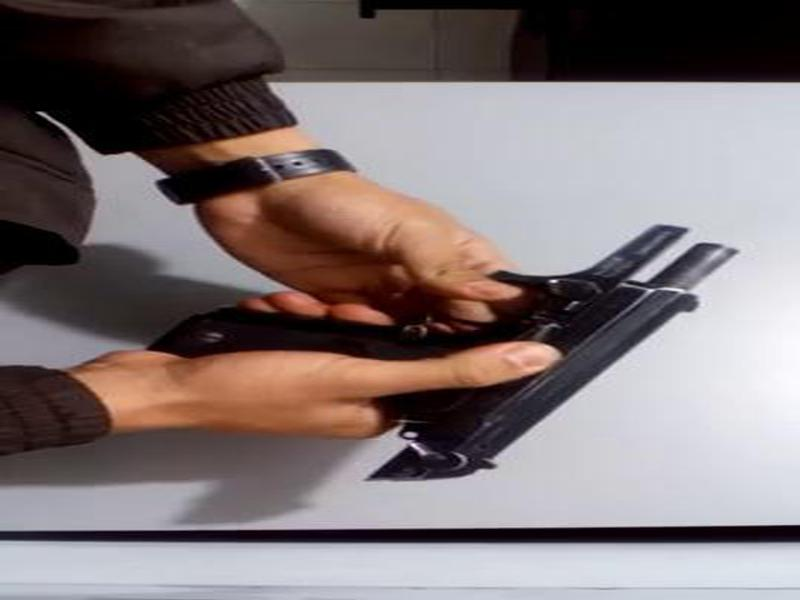Pistola: (143, 212, 743, 499)
